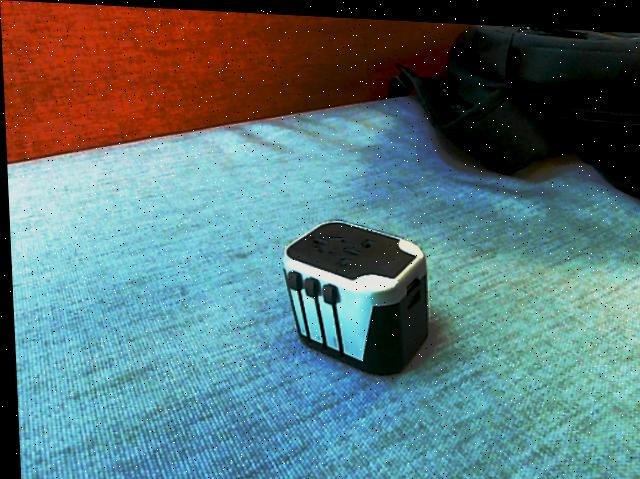adapter: (277, 213, 428, 373)
